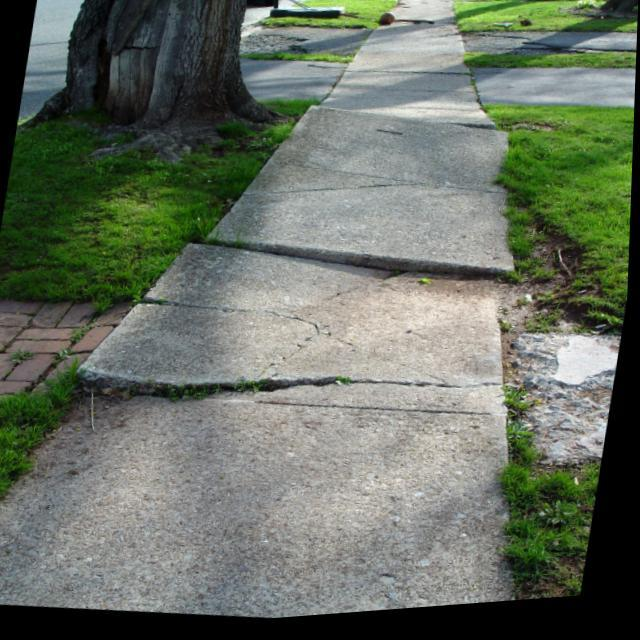bump: (210, 196, 560, 332)
hole: (52, 339, 304, 445)
